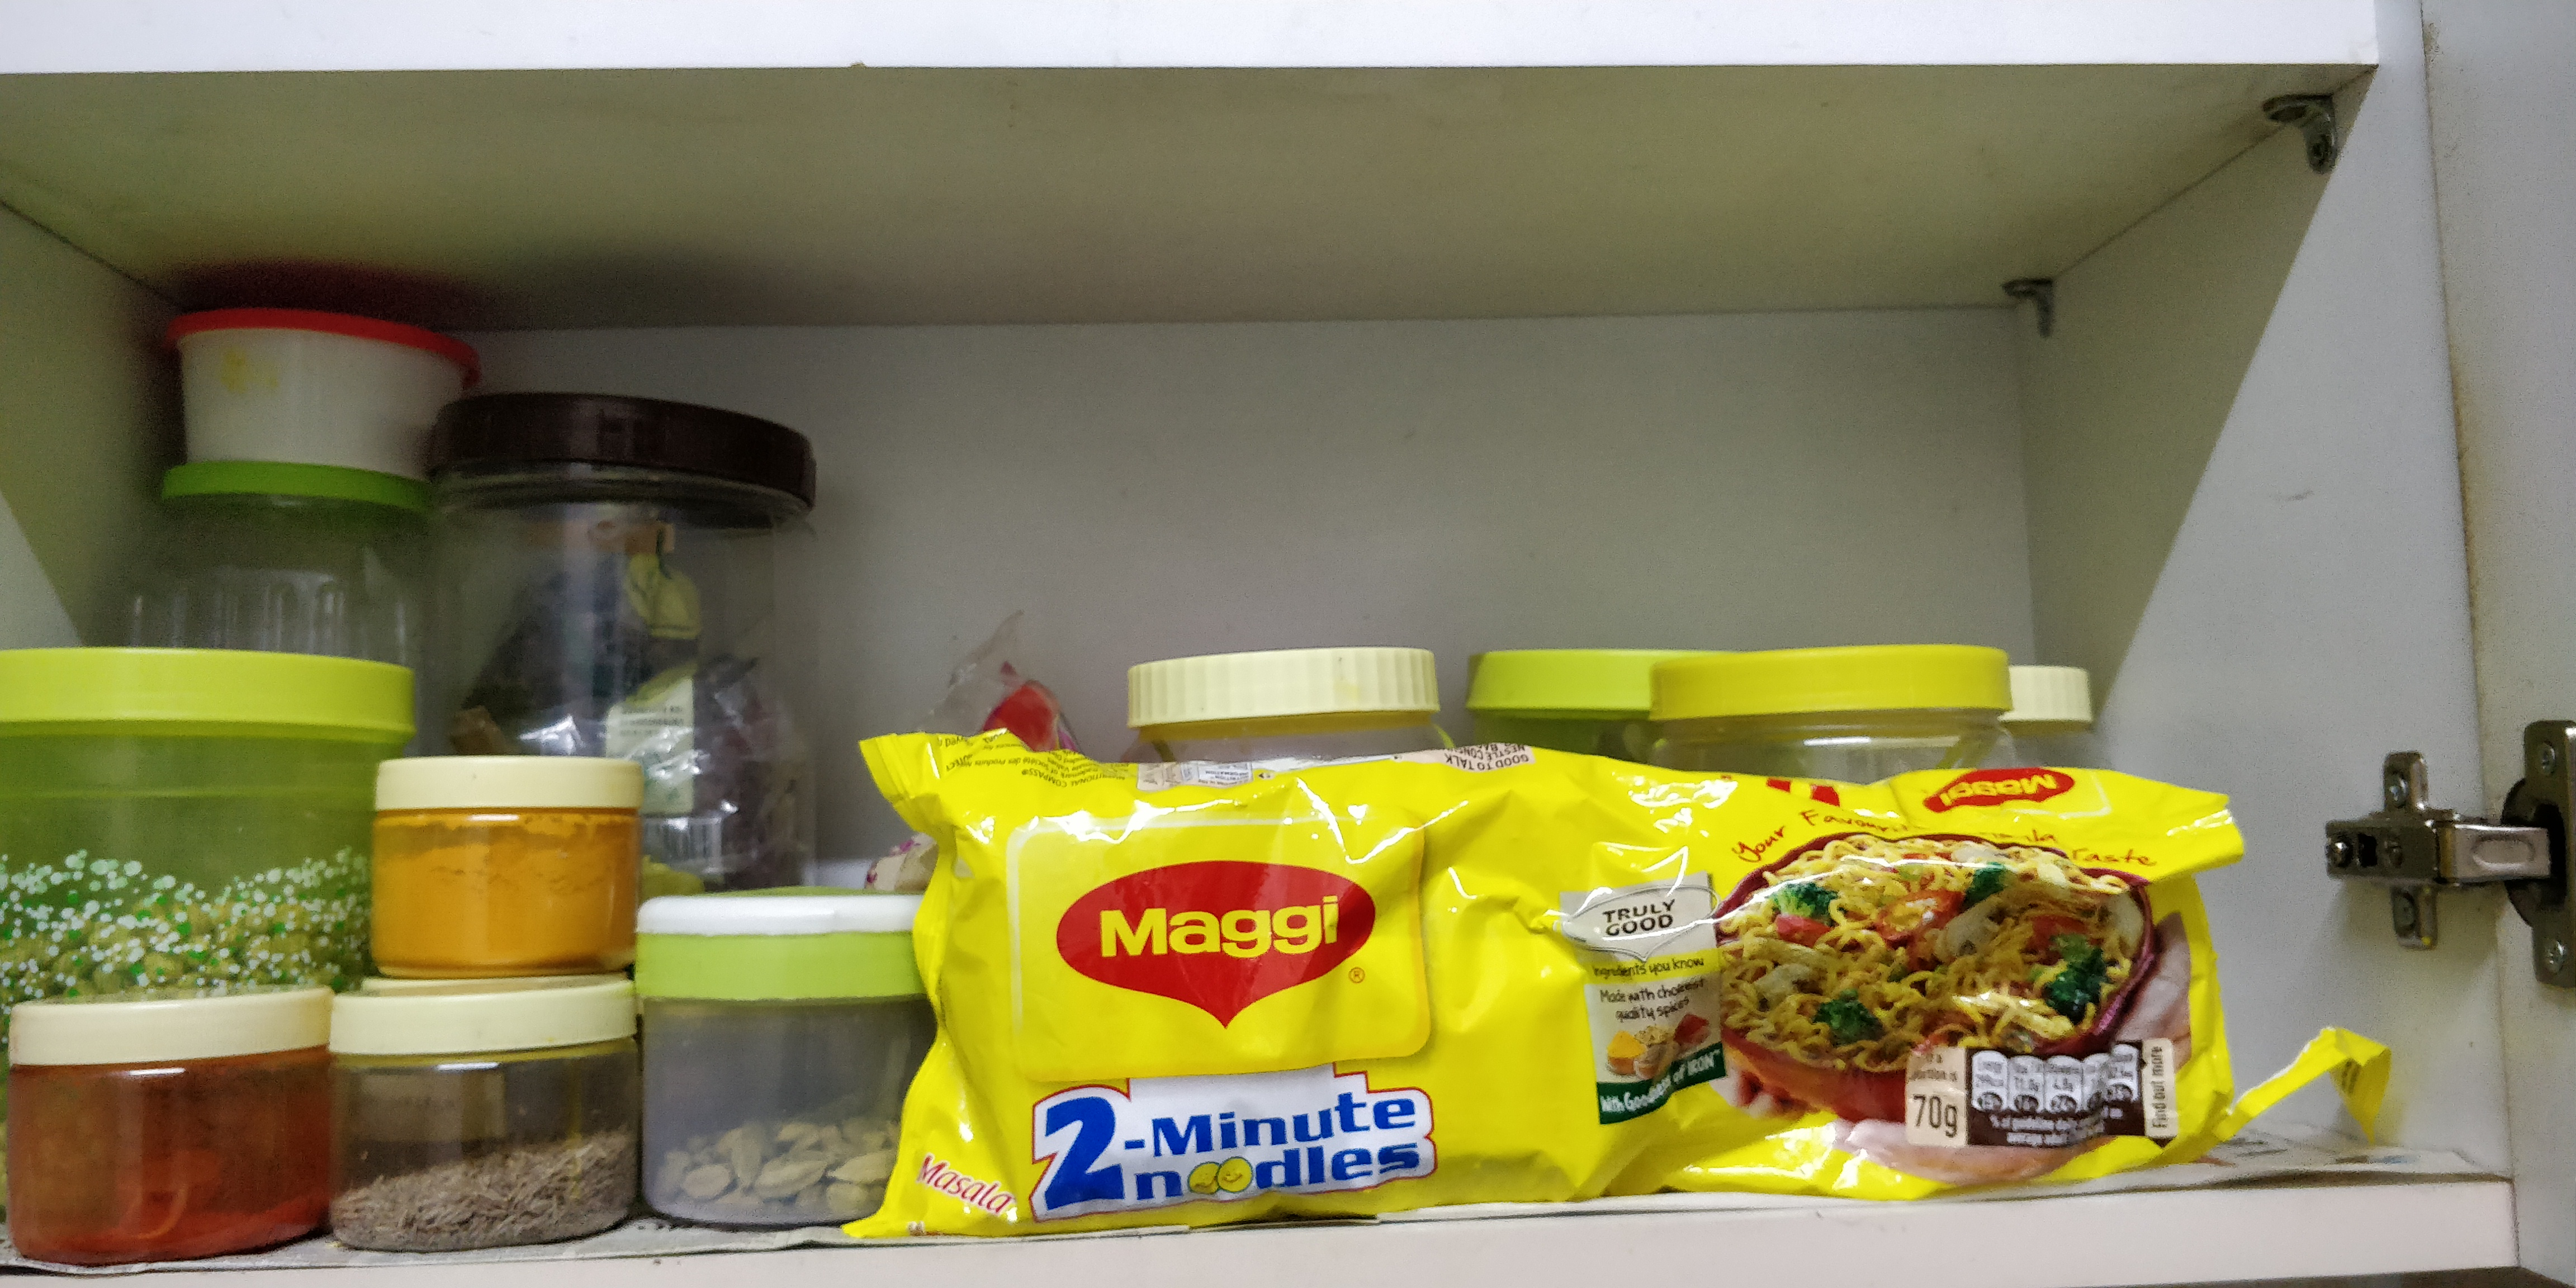maggie: (828, 734, 2330, 1261)
